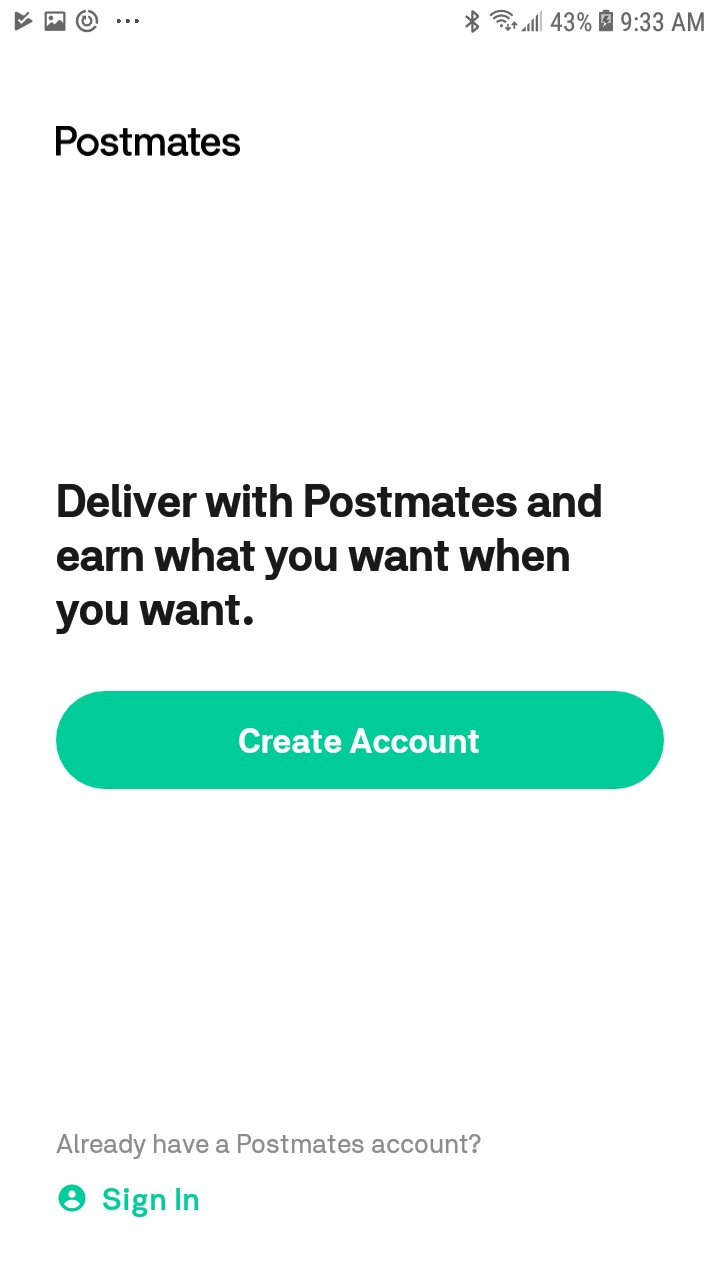Icon: (59, 1184, 87, 1212)
Text: (57, 484, 602, 635), (56, 1133, 482, 1160), (56, 127, 241, 158), (103, 1187, 199, 1218)
TextButton: (57, 691, 665, 790)
UpperTaskBar: (1, 1, 720, 35)
